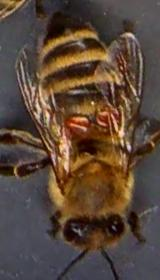varroa_mite: (88, 106, 122, 132), (58, 108, 91, 134)
